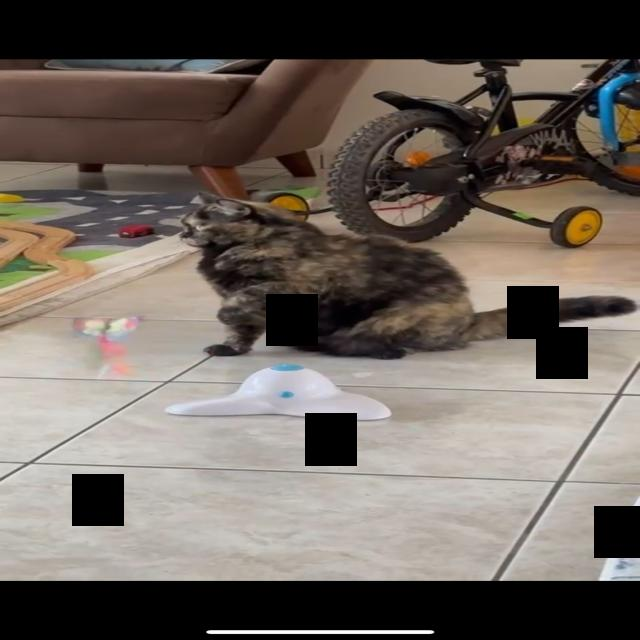authorized: (177, 190, 636, 360)
